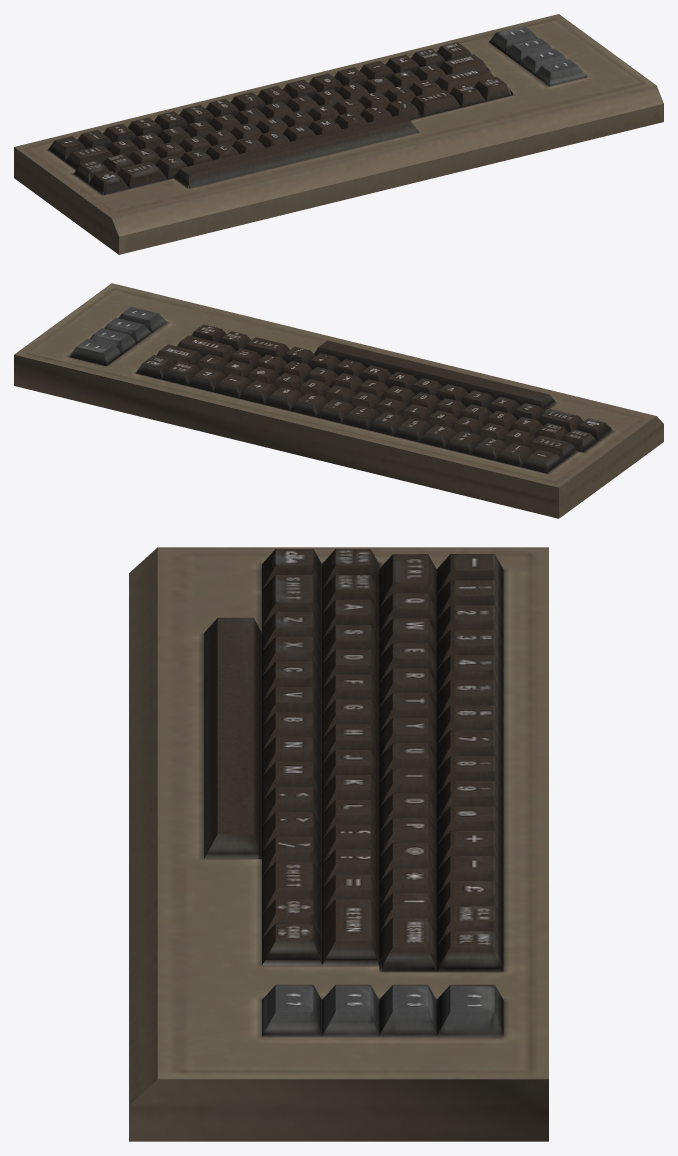
File: pc_keyboard_mp_2.obj
3 renders of one model, top to bottom at view 1: azimuth 30°, elevation 25°; view 2: azimuth 150°, elevation 25°; view 3: azimuth 270°, elevation 25°, orthographic. The views are drawn at different scales.
Visible parts, largest first — view 1: pc_keyboard_mp_2; view 2: pc_keyboard_mp_2; view 3: pc_keyboard_mp_2.
Boxes of the visible parts, box(x1,y1,x2,y2) form: pc_keyboard_mp_2: box(14, 14, 663, 254); pc_keyboard_mp_2: box(14, 283, 663, 518); pc_keyboard_mp_2: box(129, 547, 548, 1141).
Bounding box in the file's own units: 0.55 × 0.0396 × 0.1836.
